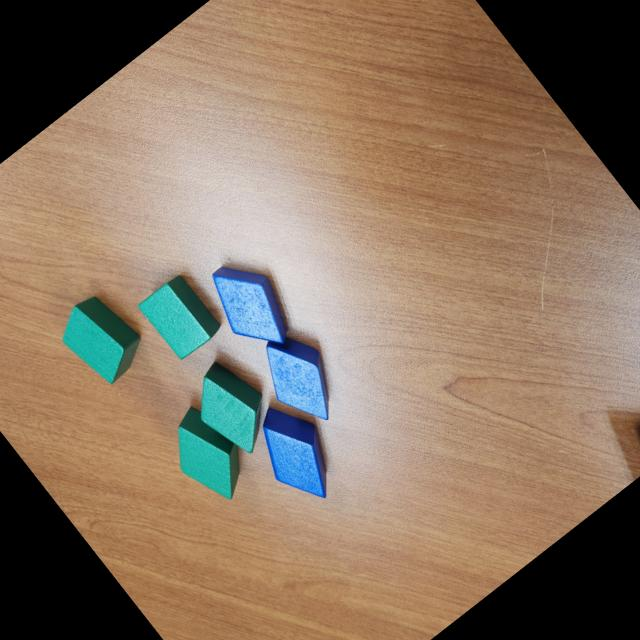blue: (239, 391, 355, 514), (196, 247, 308, 366), (246, 320, 356, 436)
green: (177, 348, 290, 466), (154, 398, 262, 514), (48, 283, 154, 392), (134, 271, 225, 364)
